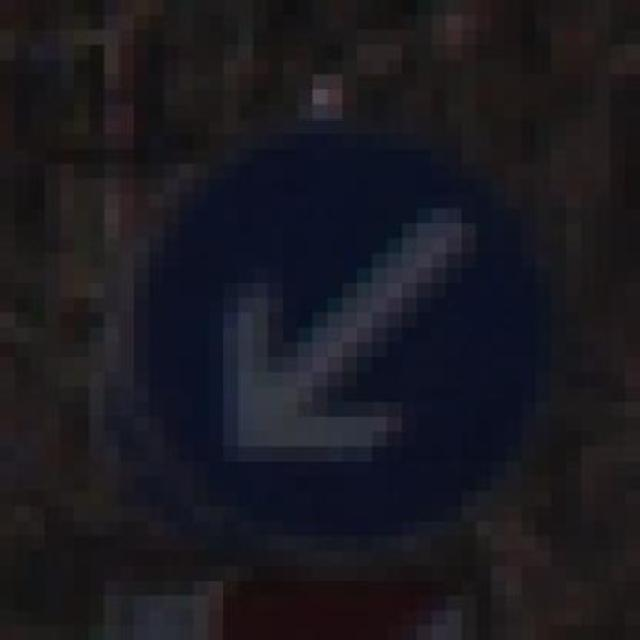Keep-Left: (134, 120, 580, 566)
